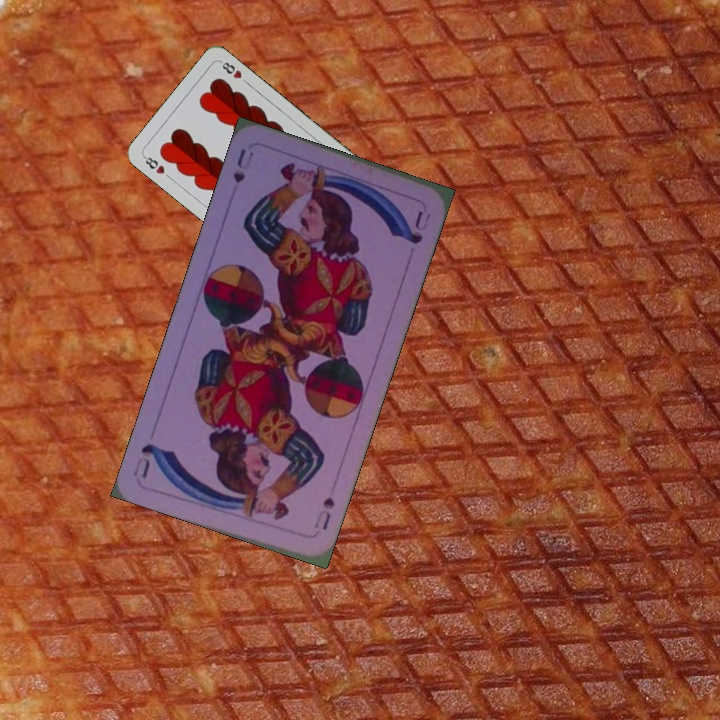H8: (139, 152, 167, 177)
SU: (229, 144, 257, 186), (310, 492, 337, 533)
